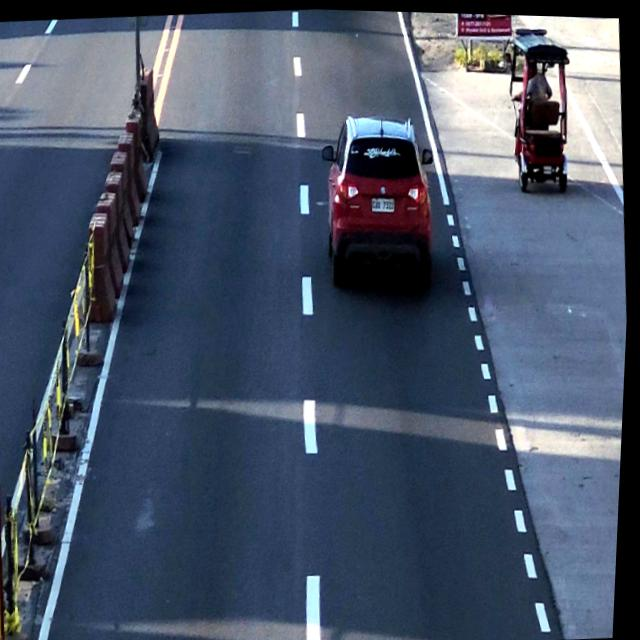Car: (316, 107, 441, 288)
License-Plate: (369, 188, 400, 217)
